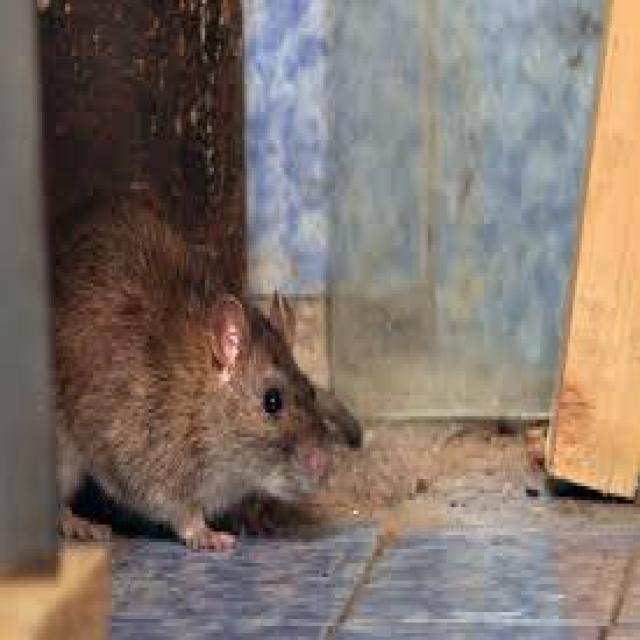rat: (49, 185, 363, 552)
